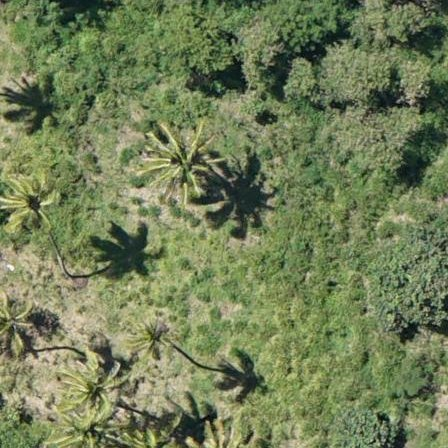palm_tree: (138, 118, 216, 202), (57, 356, 119, 415), (2, 174, 61, 233), (125, 311, 177, 357)
